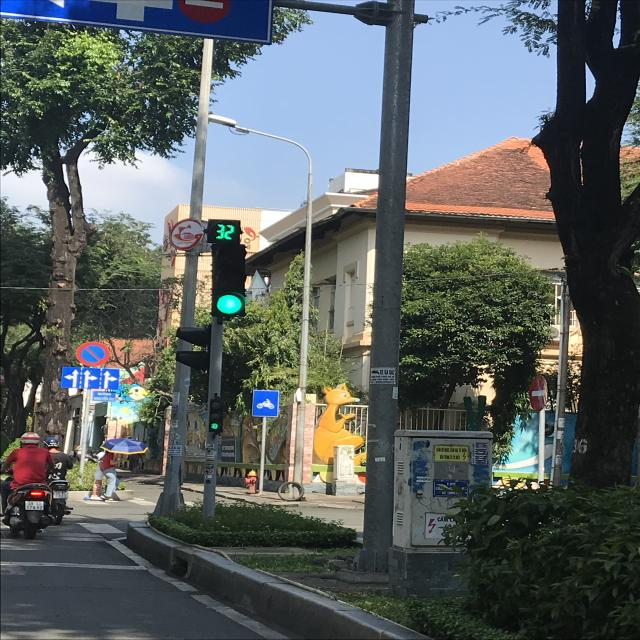Green: (202, 242, 252, 317), (208, 392, 231, 441)
